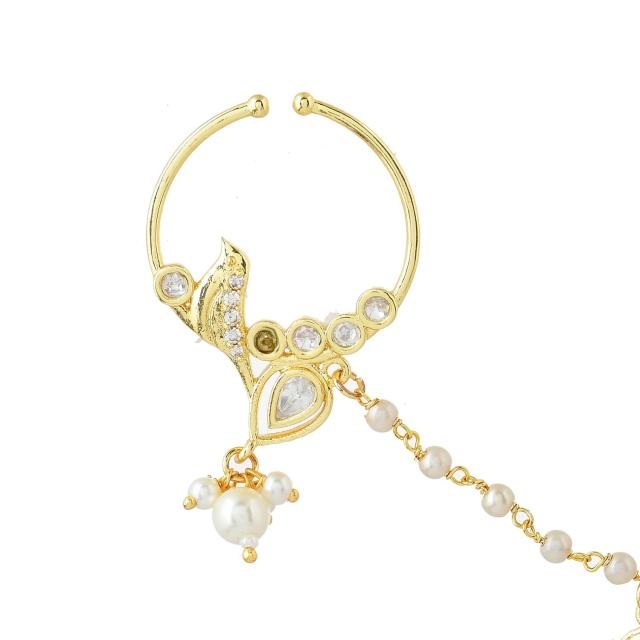missing gem: (254, 326, 280, 354)
